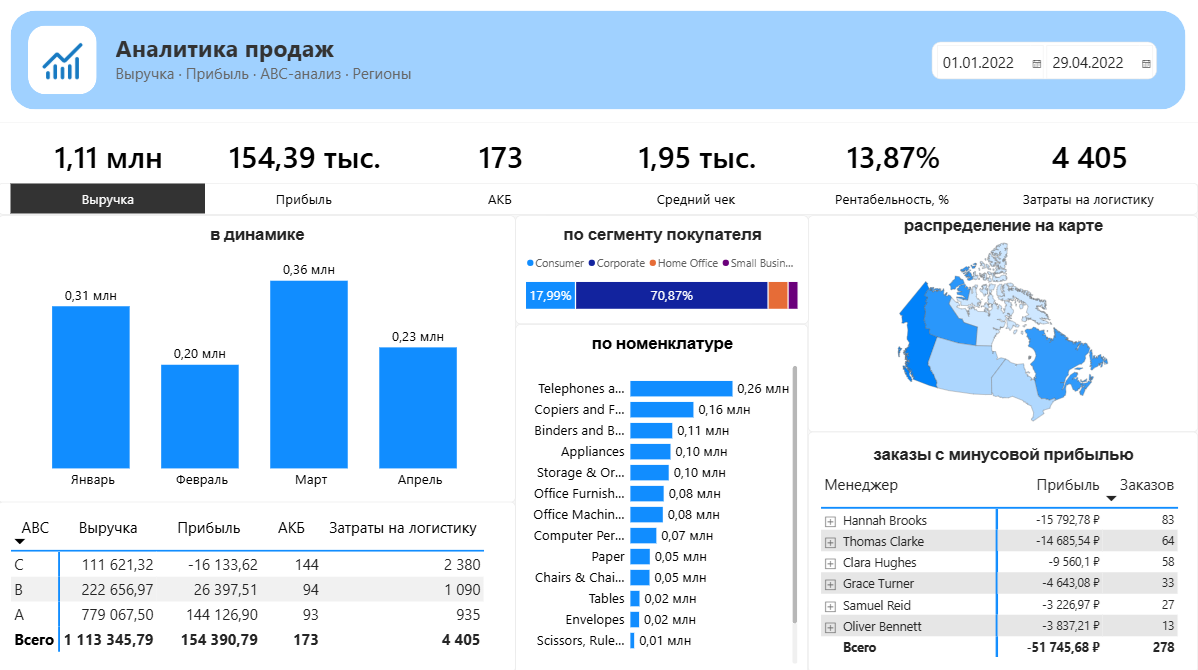

This screenshot's page, from the dashboard's own definition file:
{"tool":"powerbi","page":{"name":"Страница 1","canvas":[1920,1080],"ordinal":0},"visuals":[{"type":"shape","box":[0,0,1920,198.6],"z":0},{"type":"cardVisual","fields":{"Data":["_Меры.Выручка","_Меры.Прибыль","_Меры.АКБ","_Меры.Средний чек","_Меры.Рентабельность","_Меры.Затраты на логистику"]},"box":[1.8,199.1,1920.1,97.7],"z":1000},{"type":"columnChart","title":"в динамике","fields":{"Category":["_Календарь_PQ.Иерархия дат.Год","_Календарь_PQ.Иерархия дат.Квартал","_Календарь_PQ.Иерархия дат.Месяц","_Календарь_PQ.Иерархия дат.Дата"],"Y":["_Меры.Выручка"]},"box":[0,347.2,827.9,459.5],"z":2000},{"type":"slicer","fields":{"Values":["Параметр.Параметр"]},"box":[0,296.7,1920,50],"z":3000},{"type":"barChart","title":"по номенклатуре","fields":{"Category":["СПР_продукты.Категория продукта","СПР_продукты.Подкатегория продукта","СПР_продукты.Продукт"],"Y":["_Меры.Выручка"]},"box":[828.3,521.7,468.3,560],"z":4000},{"type":"pivotTable","fields":{"Rows":["_ABC.ABC"],"Values":["_Меры.Выручка","_Меры.Прибыль","_Меры.АКБ","_Меры.Затраты на логистику"]},"box":[0,806.7,828.3,273.3],"z":5000},{"type":"pivotTable","title":"заказы с минусовой прибылью","fields":{"Rows":["СПР_Менеджеры.Менеджер","Продажи.Order_ID"],"Values":["_Меры.Прибыль убыточных заказов 1","_Меры.Убыточных заказов"]},"box":[1296,694,624,385],"z":6000},{"type":"shapeMap","title":"распределение на карте","fields":{"Category":["СПР_карта_регионов.Регион"],"Value":["_Меры.Выручка"]},"box":[1296,348,624,346],"z":7000},{"type":"hundredPercentStackedBarChart","title":"по сегменту покупателя","fields":{"Series":["СПР_покупатели.Сегмент покупателя"],"Y":["_Меры.Выручка"]},"box":[828.8,347.5,468.7,173.7],"z":8000},{"type":"textbox","box":[178,44,600,110],"z":9000},{"type":"slicer","fields":{"Values":["_Календарь_PQ.Дата"]},"box":[1494,70,360,60],"z":10000},{"type":"shape","box":[48,44,110,110],"z":11500},{"type":"image","box":[58,56,90,90],"z":12000}]}

Visuals, with their boxes in screenshot pixels (x1, y1, x2, y2), scaled from the page's 1920x1080 canvas onto the 1198x670 screenshot:
shape: box(0, 0, 1197, 123)
cardVisual - _Меры.Выручка x _Меры.Прибыль: box(1, 124, 1197, 184)
"в динамике" columnChart: box(0, 215, 517, 500)
slicer - Параметр.Параметр: box(0, 184, 1197, 215)
"по номенклатуре" barChart: box(517, 324, 809, 669)
pivotTable - _ABC.ABC x _Меры.Выручка: box(0, 500, 517, 669)
"заказы с минусовой прибылью" pivotTable: box(809, 431, 1197, 669)
"распределение на карте" shapeMap: box(809, 216, 1197, 431)
"по сегменту покупателя" hundredPercentStackedBarChart: box(517, 216, 810, 323)
textbox: box(111, 27, 485, 96)
slicer - _Календарь_PQ.Дата: box(932, 43, 1157, 81)
shape: box(30, 27, 99, 96)
image: box(36, 35, 92, 91)
